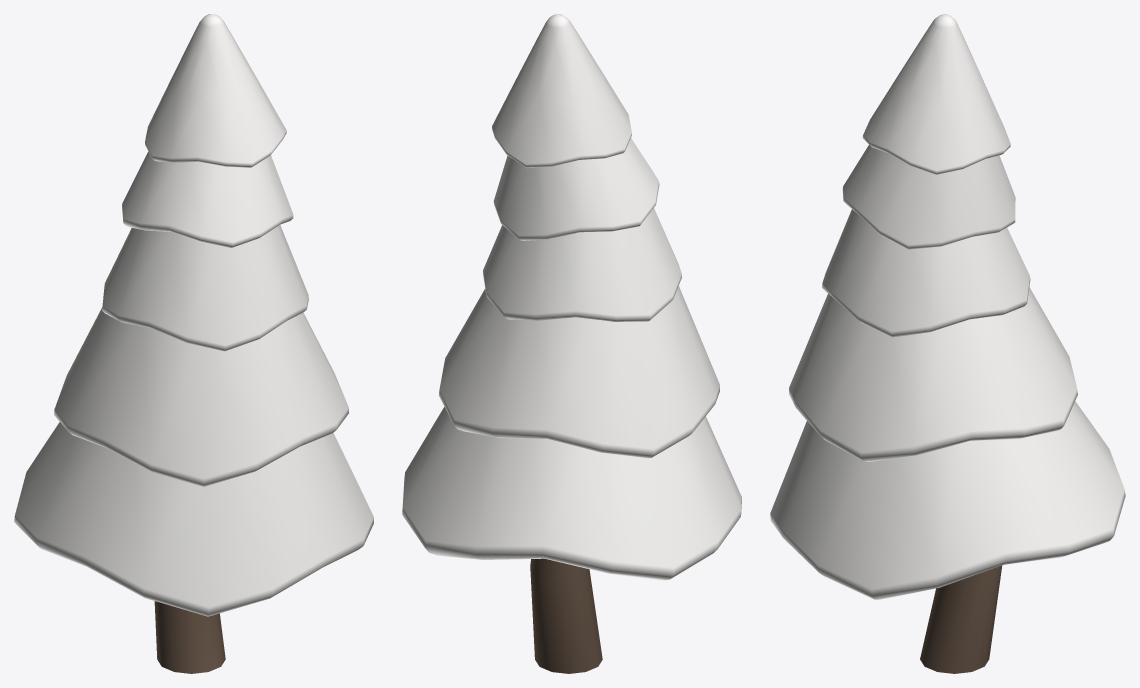
Rendered from Tree_5.glb.
3 views of the same model, side by side, from view 1: azimuth 30°, elevation 25°; view 2: azimuth 150°, elevation 25°; view 3: azimuth 270°, elevation 25° (orthographic). The views are drawn at different scales.
Parts seen in each view (by area): view 1: Tree_5; view 2: Tree_5; view 3: Tree_5.
Boxes of the visible parts, bbox=[...] form: Tree_5: bbox=[14, 14, 373, 673]; Tree_5: bbox=[402, 14, 741, 673]; Tree_5: bbox=[770, 14, 1125, 673].
Bounding box in the file's own units: 0.8191 × 1.65 × 0.8155.
Materials: 1 (1 with a texture image).
